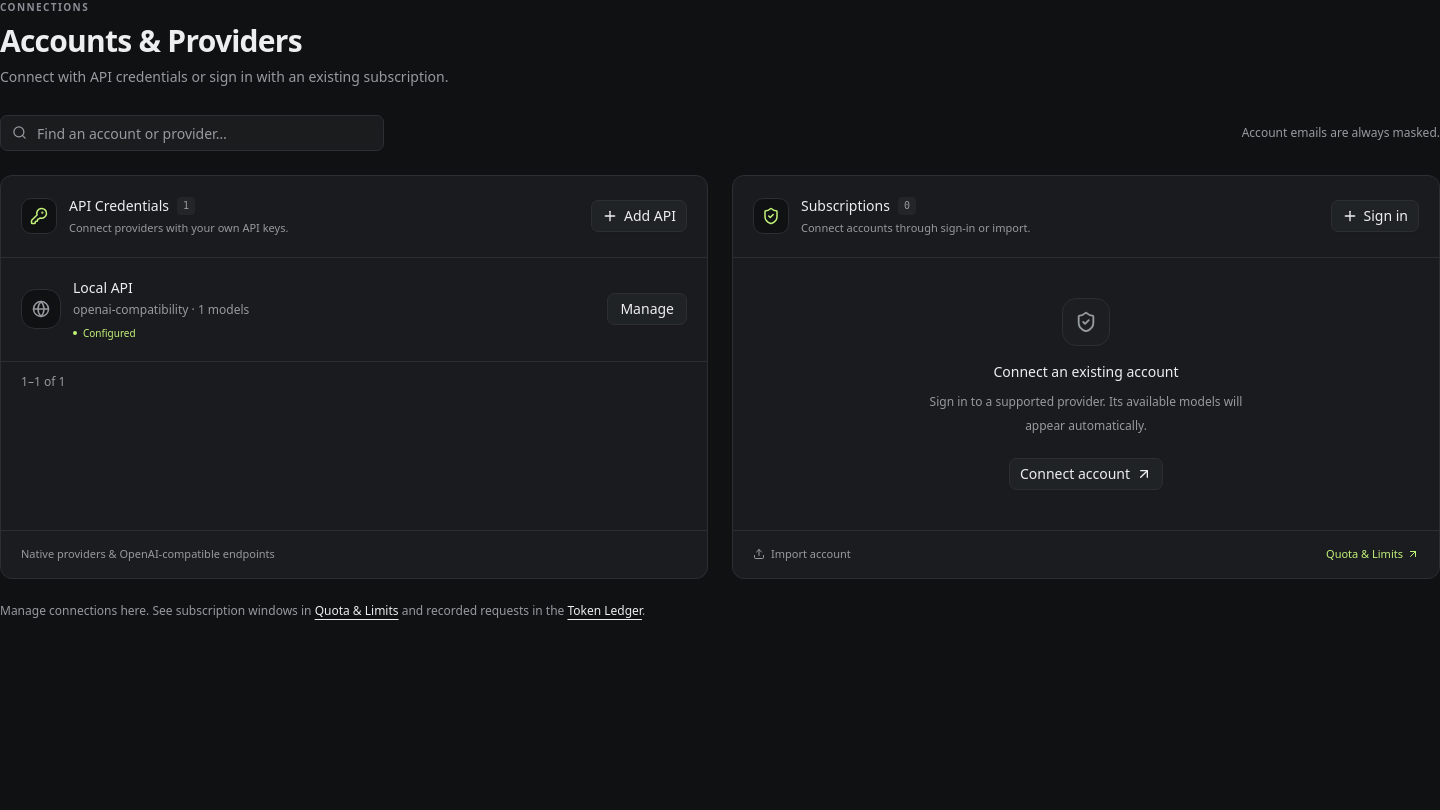
Test: API management keeps secrets out of the summary and exposes edit controls
The image size is (1440, 810).
What coordinates should you click on to do the following:
click the button with aria-label "Manage Local API"
I would click on:
 (647, 309)
Its box is [607, 293, 687, 325].
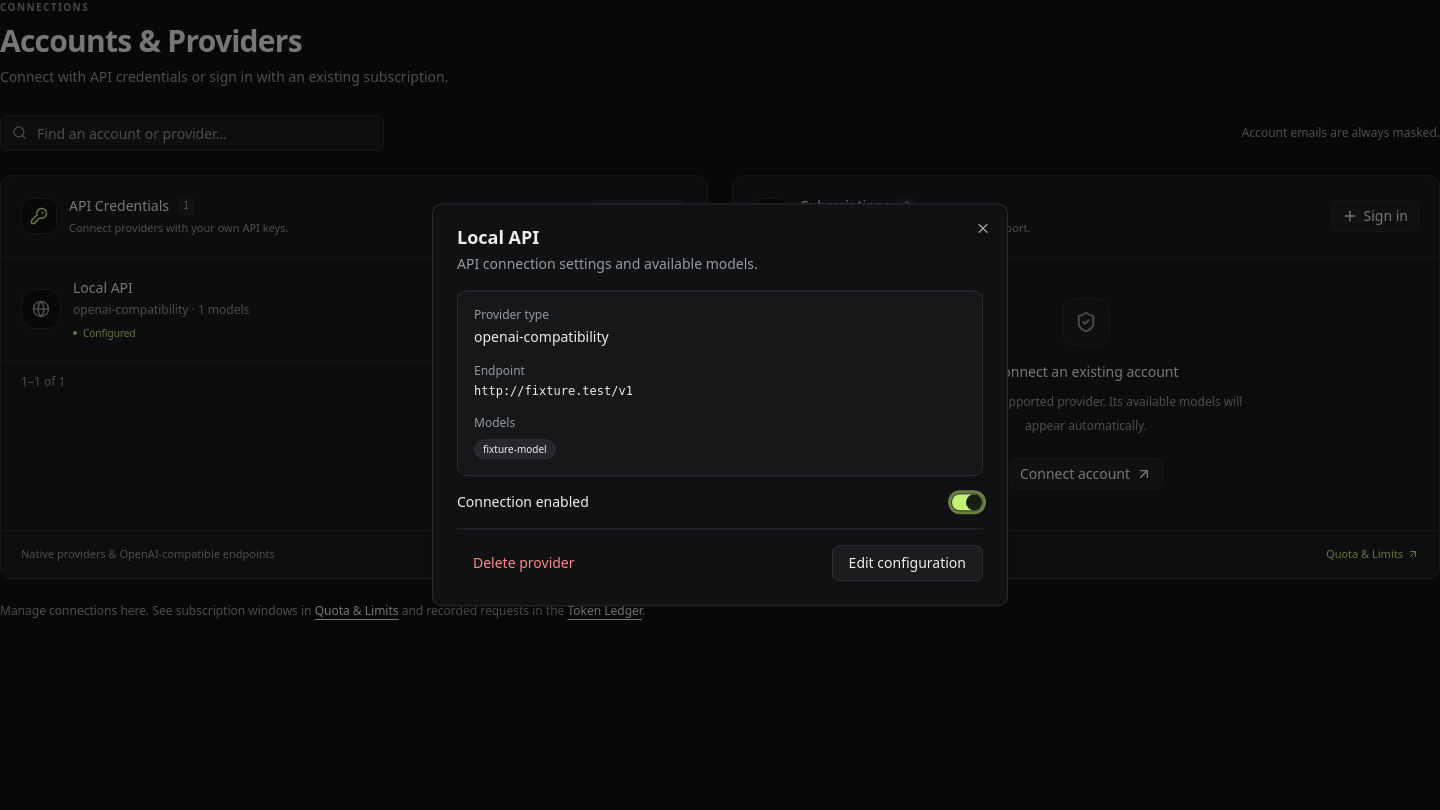
Now the text "fixture-model" is shown, box [474, 439, 556, 460]
Now the button "Edit configuration" is shown, box [832, 546, 983, 582]
